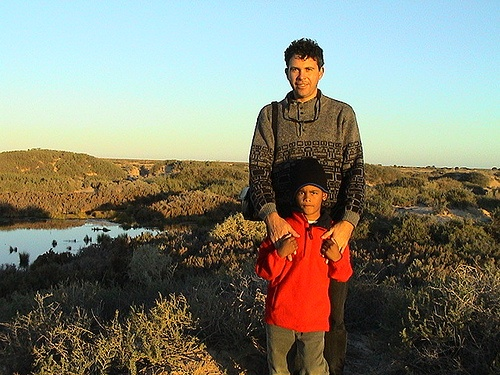head: (285, 39, 327, 96), (289, 164, 331, 221)
person: (240, 33, 368, 372), (258, 158, 353, 375)
